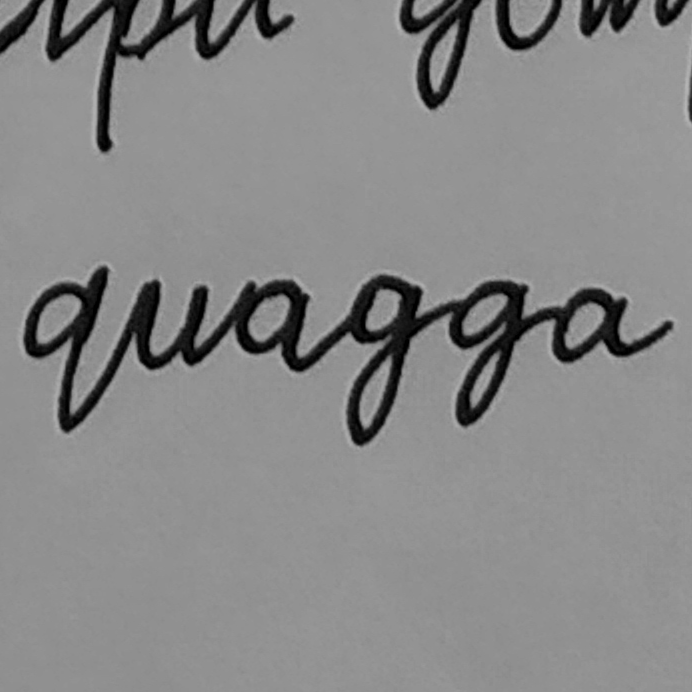a: (224, 273, 313, 374), (544, 277, 634, 369)
g: (329, 267, 428, 453), (442, 269, 537, 429)
q: (20, 258, 112, 438)
u: (126, 274, 214, 378)
